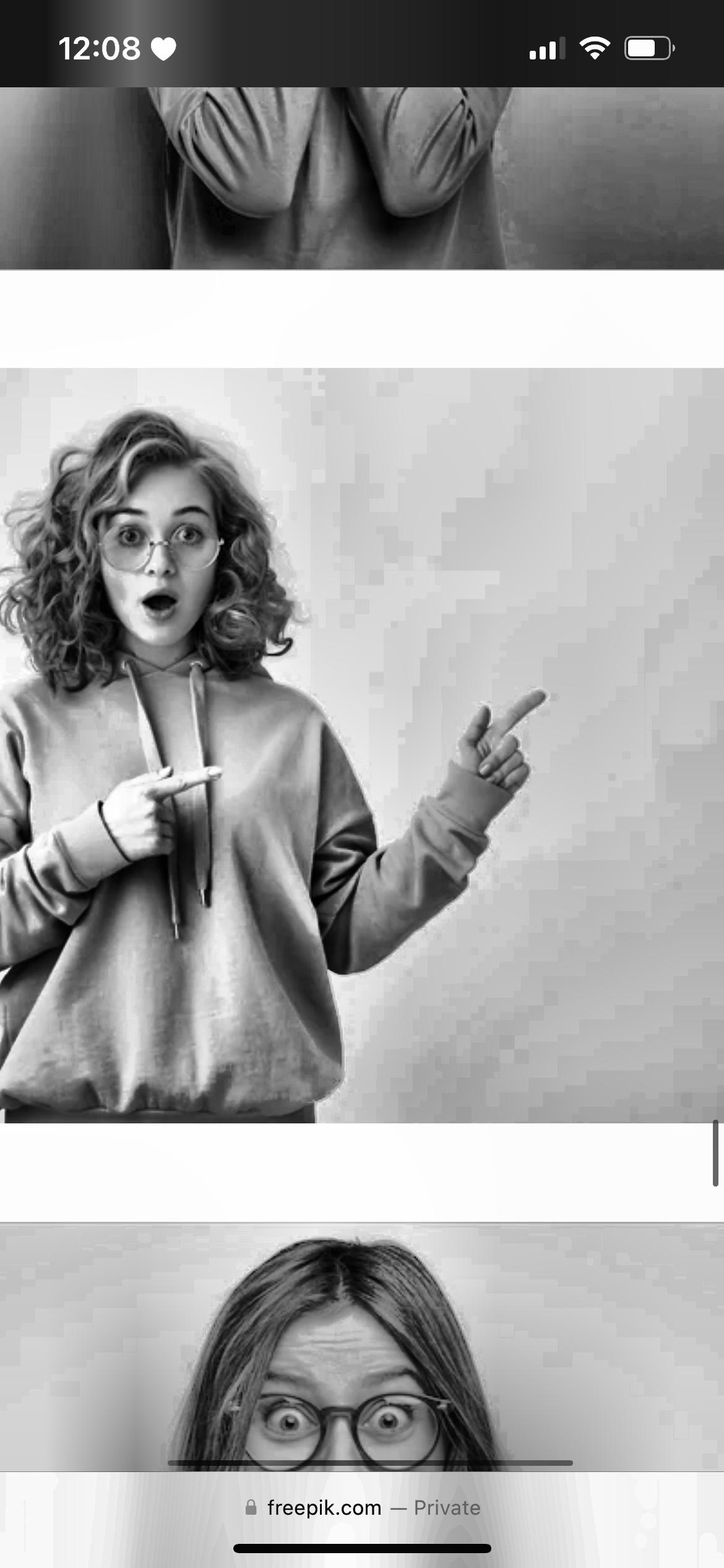surprised: (35, 444, 245, 677)
